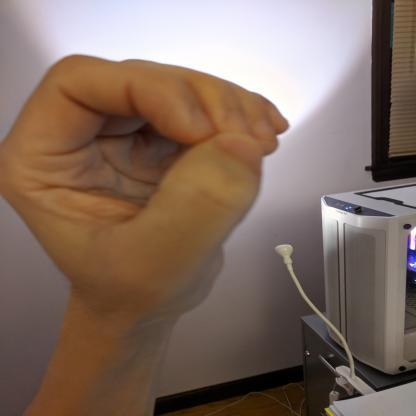O: (1, 50, 296, 327)
